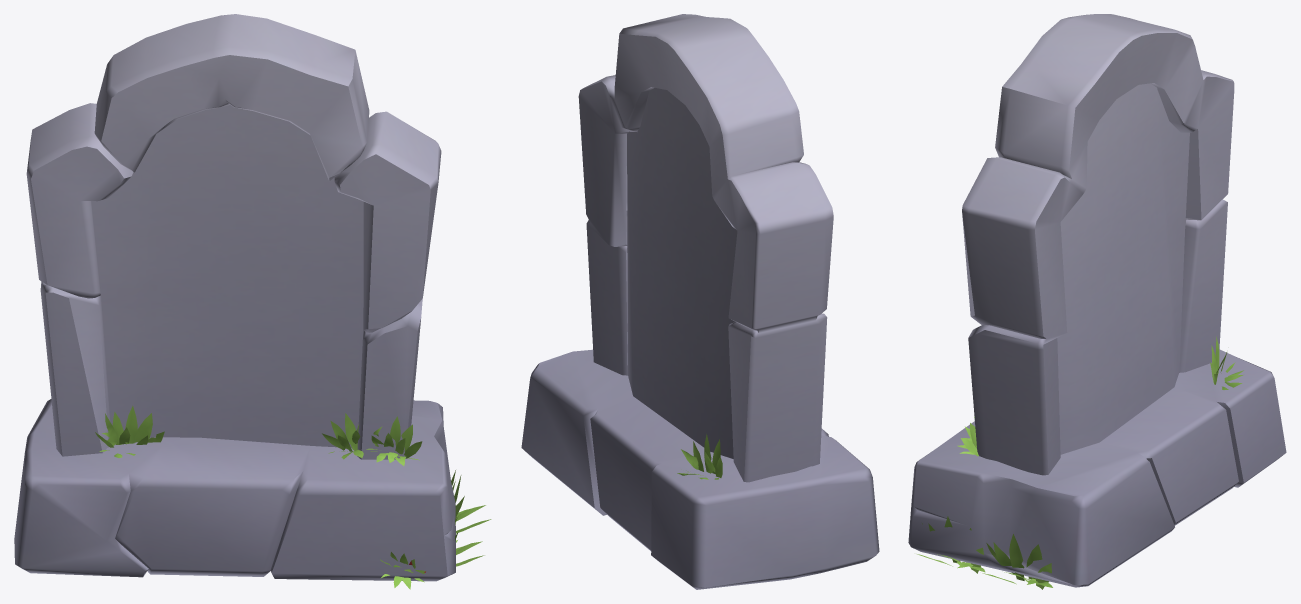
Rendered from WBA_Gravestone_Set_03.fbx.
3 renders of one model, left to right at view 1: azimuth 30°, elevation 25°; view 2: azimuth 150°, elevation 25°; view 3: azimuth 270°, elevation 25°, orthographic. The views are drawn at different scales.
Visible parts, largest first — view 1: WBA_Gravestone_Set_03; view 2: WBA_Gravestone_Set_03; view 3: WBA_Gravestone_Set_03.
Part boxes in pixels (left/top/right/bottom): WBA_Gravestone_Set_03: left=14, top=14, right=491, bottom=589; WBA_Gravestone_Set_03: left=521, top=14, right=879, bottom=589; WBA_Gravestone_Set_03: left=908, top=14, right=1286, bottom=589.
Bounding box in the file's own units: 47.16 × 57.86 × 40.77.
